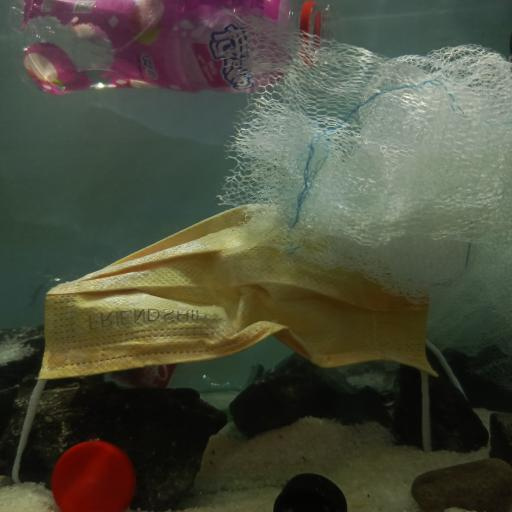bottle_cap: (51, 439, 137, 512), (272, 470, 347, 512)
mask: (34, 198, 440, 393)
net: (213, 12, 512, 392)
plastic_bottle: (14, 1, 338, 96), (29, 272, 264, 398)
